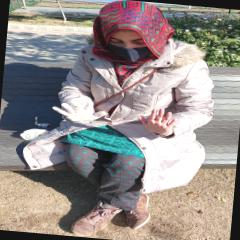gloved: (53, 98, 110, 127)
not-gloved: (136, 108, 178, 138)
